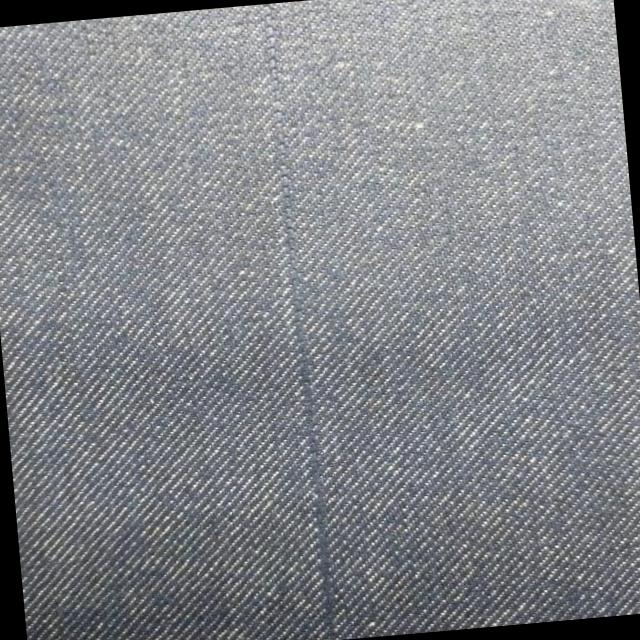Warp_Weft: (259, 2, 339, 640)
